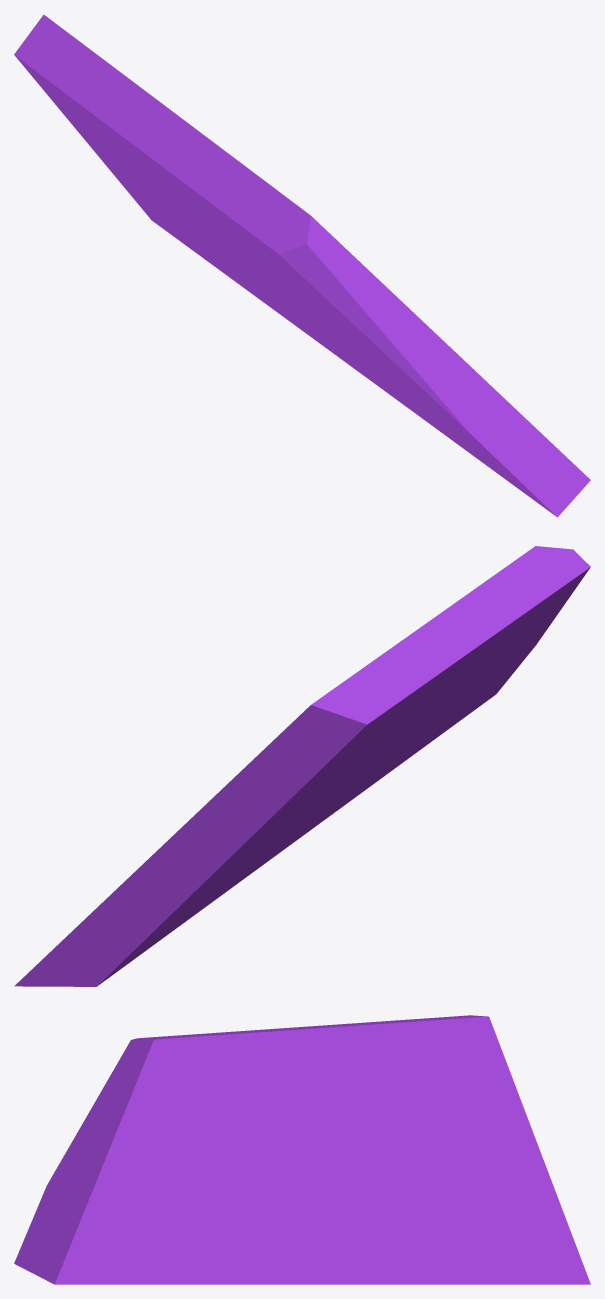
Rendered from Window_121_1_chunks.fbx.
The picture shows the model from 3 angles, top to bottom: view 1: azimuth 30°, elevation 25°; view 2: azimuth 150°, elevation 25°; view 3: azimuth 270°, elevation 25°; orthographic projection. The views are drawn at different scales.
Parts seen in each view (by area): view 1: Window_121_1_14, Window_121_1_12, Window_121_1_4, Window_121_1_7, Window_121_1_10, Window_121_1_6, Window_121_1_13, Window_121_1_0, Window_121_1_9, Window_121_1_5, Window_121_1_3, Window_121_1_1 (+1 smaller); view 2: Window_121_1_10, Window_121_1_7, Window_121_1_4, Window_121_1_12, Window_121_1_6, Window_121_1_14, Window_121_1_13, Window_121_1_9, Window_121_1_0, Window_121_1_3, Window_121_1_5, Window_121_1_1 (+1 smaller); view 3: Window_121_1_10, Window_121_1_8, Window_121_1_11, Window_121_1_14, Window_121_1_15, Window_121_1_12, Window_121_1_13, Window_121_1_7, Window_121_1_6, Window_121_1_2, Window_121_1_1, Window_121_1_4 (+1 smaller).
Part boxes in pixels (left/top/right/bottom): Window_121_1_14: left=338, top=267, right=588, bottom=517; Window_121_1_12: left=241, top=178, right=365, bottom=345; Window_121_1_4: left=72, top=93, right=235, bottom=221; Window_121_1_7: left=14, top=14, right=148, bottom=179; Window_121_1_10: left=56, top=105, right=247, bottom=290; Window_121_1_6: left=191, top=132, right=281, bottom=282; Window_121_1_13: left=315, top=312, right=590, bottom=496; Window_121_1_0: left=275, top=279, right=426, bottom=411; Window_121_1_9: left=178, top=211, right=288, bottom=308; Window_121_1_5: left=148, top=170, right=269, bottom=275; Window_121_1_3: left=258, top=269, right=340, bottom=346; Window_121_1_1: left=310, top=336, right=442, bottom=433; Window_121_1_10: left=14, top=738, right=320, bottom=986; Window_121_1_7: left=276, top=643, right=415, bottom=802; Window_121_1_4: left=395, top=593, right=553, bottom=720; Window_121_1_12: left=428, top=546, right=590, bottom=715; Window_121_1_6: left=409, top=576, right=558, bottom=727; Window_121_1_14: left=470, top=592, right=572, bottom=712; Window_121_1_13: left=429, top=666, right=494, bottom=738; Window_121_1_9: left=246, top=763, right=367, bottom=866; Window_121_1_0: left=360, top=712, right=432, bottom=781; Window_121_1_3: left=258, top=723, right=414, bottom=867; Window_121_1_5: left=331, top=703, right=422, bottom=777; Window_121_1_1: left=254, top=770, right=385, bottom=871; Window_121_1_10: left=393, top=1048, right=590, bottom=1284; Window_121_1_8: left=252, top=1178, right=463, bottom=1284; Window_121_1_11: left=250, top=1060, right=460, bottom=1182; Window_121_1_14: left=14, top=1073, right=152, bottom=1283; Window_121_1_15: left=143, top=1099, right=268, bottom=1211; Window_121_1_12: left=112, top=1035, right=256, bottom=1117; Window_121_1_13: left=52, top=1174, right=210, bottom=1284; Window_121_1_7: left=342, top=1015, right=500, bottom=1093; Window_121_1_6: left=187, top=1030, right=350, bottom=1118; Window_121_1_2: left=124, top=1187, right=252, bottom=1284; Window_121_1_1: left=185, top=1224, right=297, bottom=1284; Window_121_1_4: left=197, top=1020, right=396, bottom=1050.
Size of the model in its own units: 430 by 436 by 1178.
